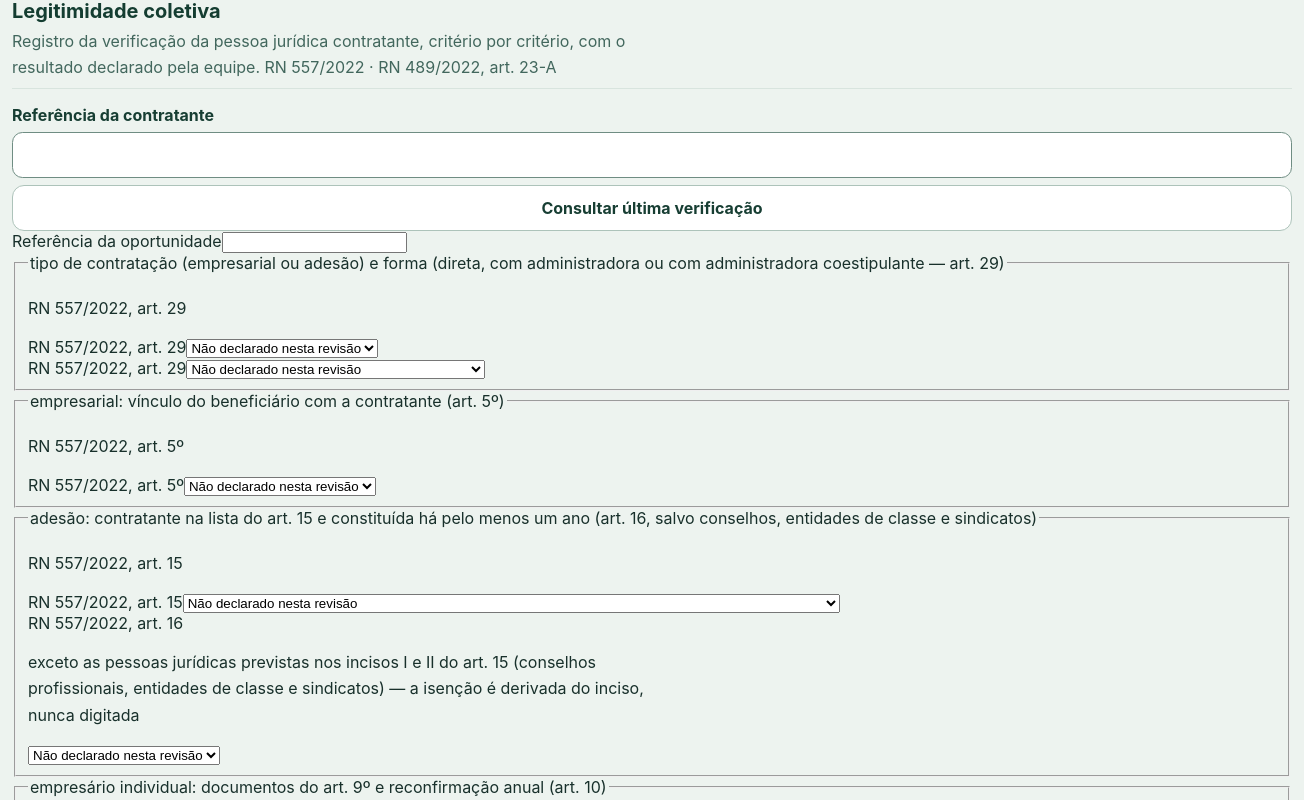
it: a 403 on a write turns the area off and no second write can leave
Check: the heading "Legitimidade coletiva" is shown, box [12, 0, 221, 23]
Type "pj-ref-1" into the field labelled "Referência da contratante" at (652, 155), box [12, 132, 1292, 178]
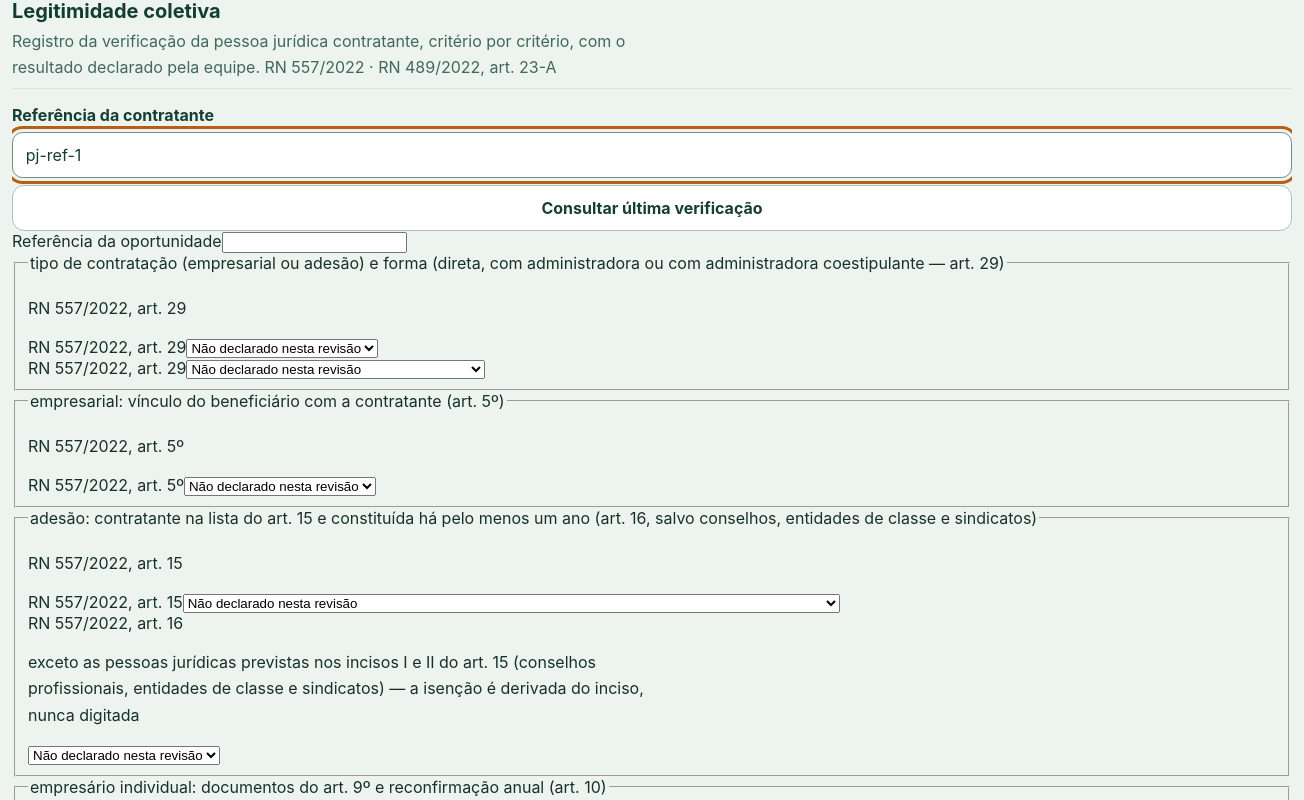
Type "op-ref-1" into the field labelled "Referência da oportunidade" at (314, 242), box [222, 232, 407, 253]
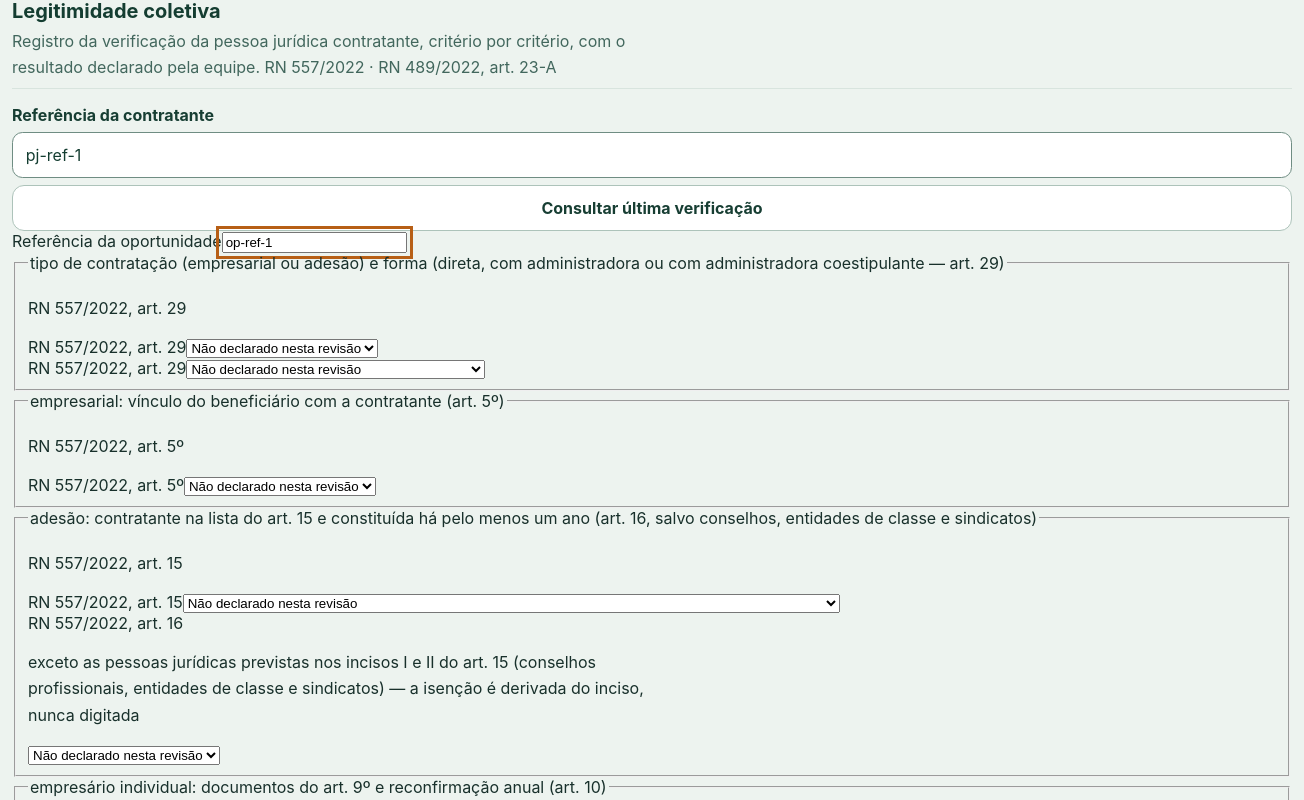
Select "empresarial" in the 1st dropdown labelled "RN 557/2022, art. 29" at (282, 348), box [186, 339, 378, 358]
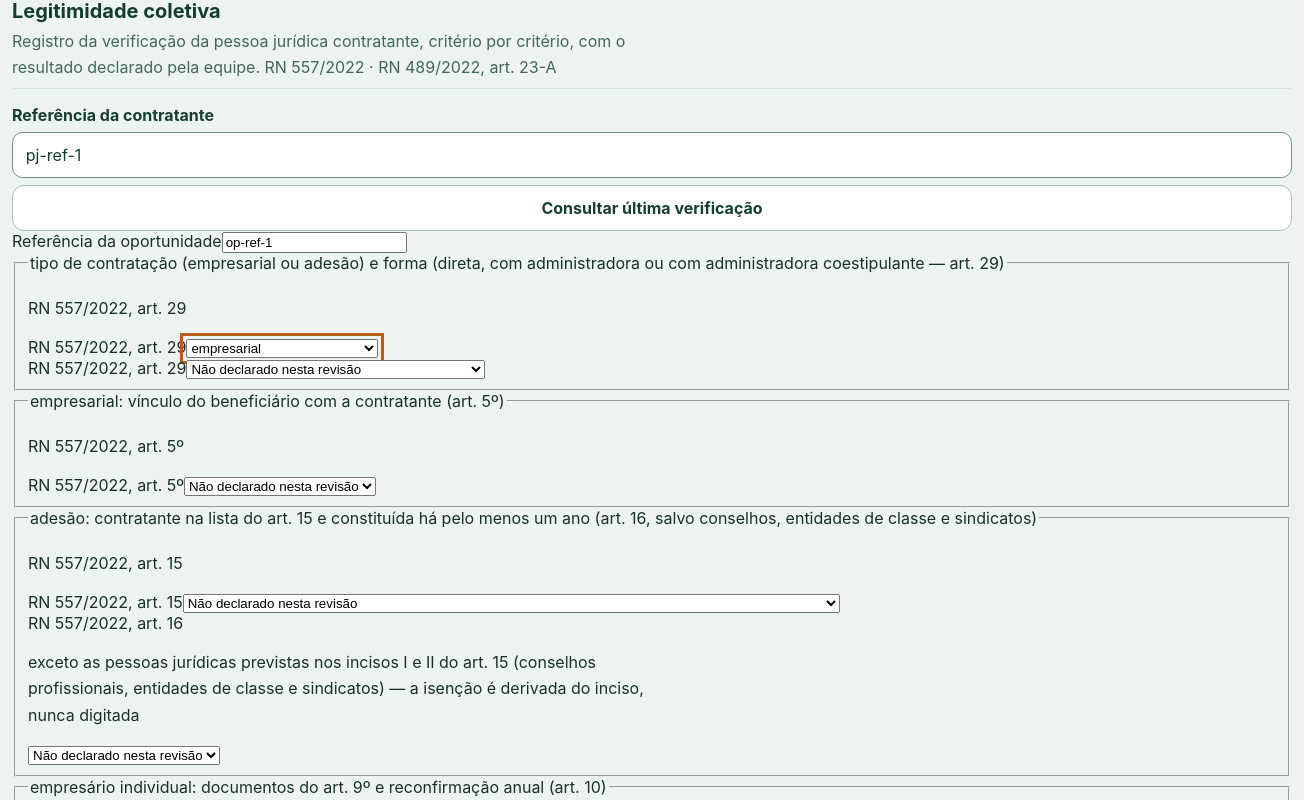
Select "direta — art. 29, I" in the 2nd dropdown labelled "RN 557/2022, art. 29" at (336, 369), box [186, 360, 485, 379]
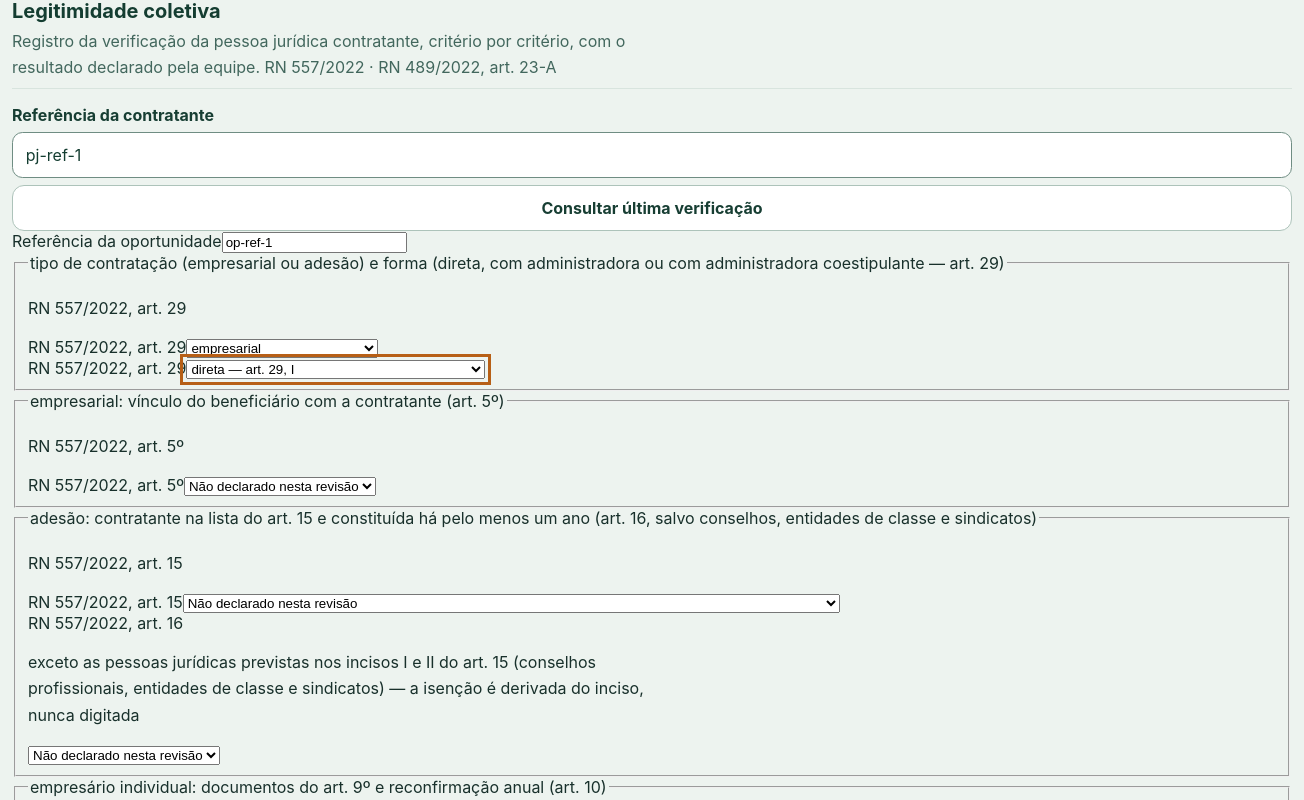
Select "pendente de verificação" in the dropdown labelled "RN 557/2022, art. 5º" at (280, 486), box [184, 477, 376, 496]
(page scrolled)
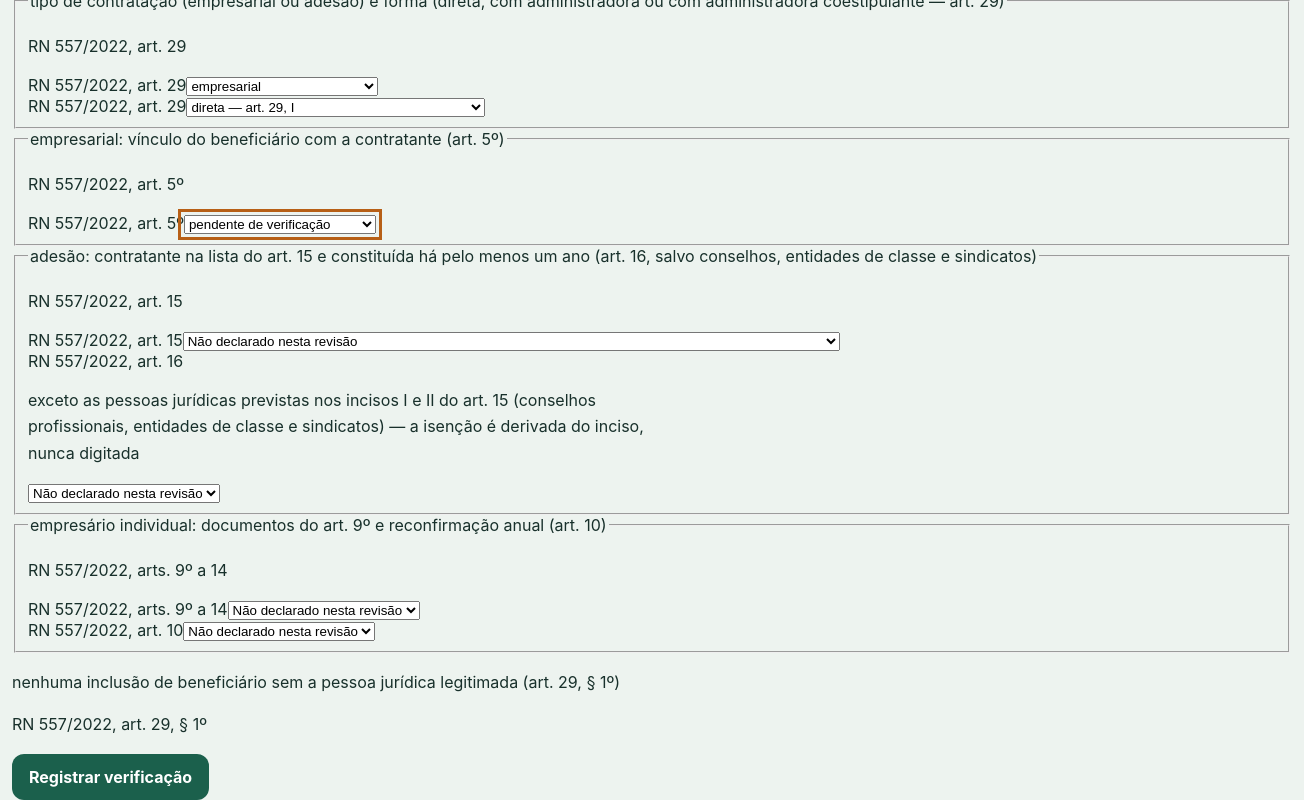
Click the button "Registrar verificação" at (111, 777), box [12, 754, 209, 799]
(page scrolled)
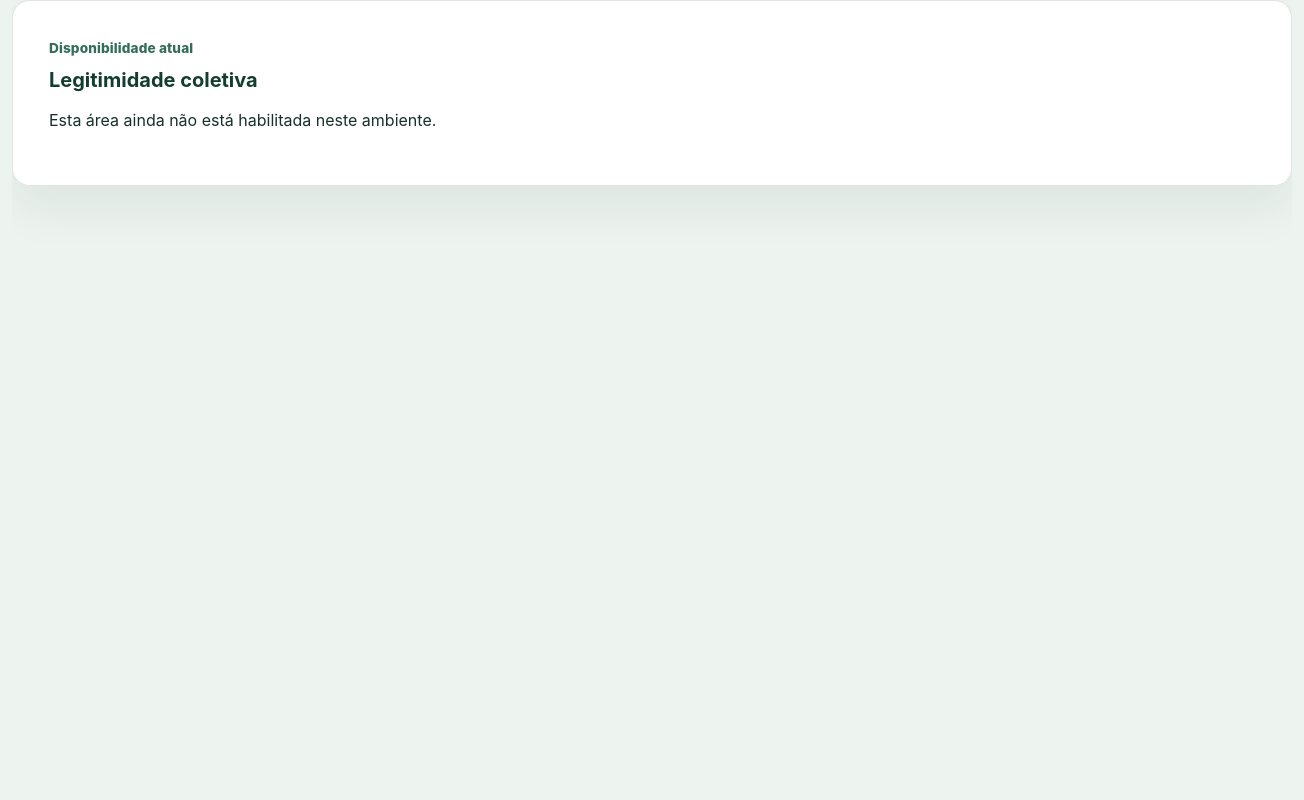
Check: the text "Esta área ainda não está habilitada neste ambiente." is shown, box [49, 110, 436, 130]
